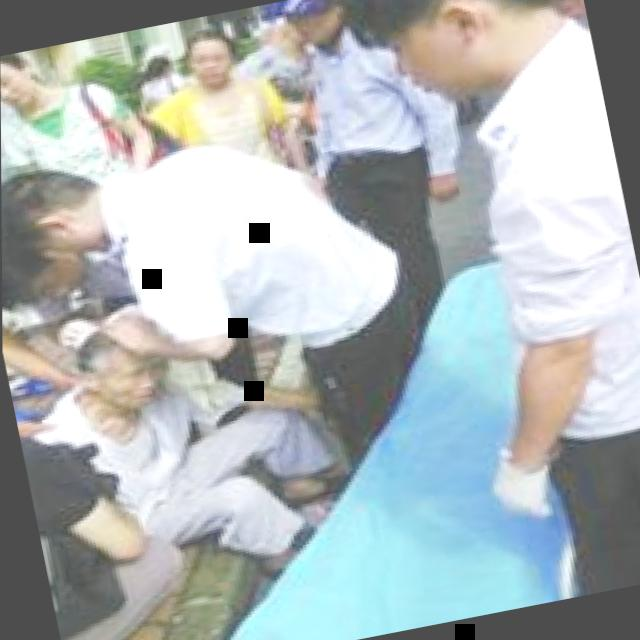Fall-Detected: (1, 229, 394, 640)
